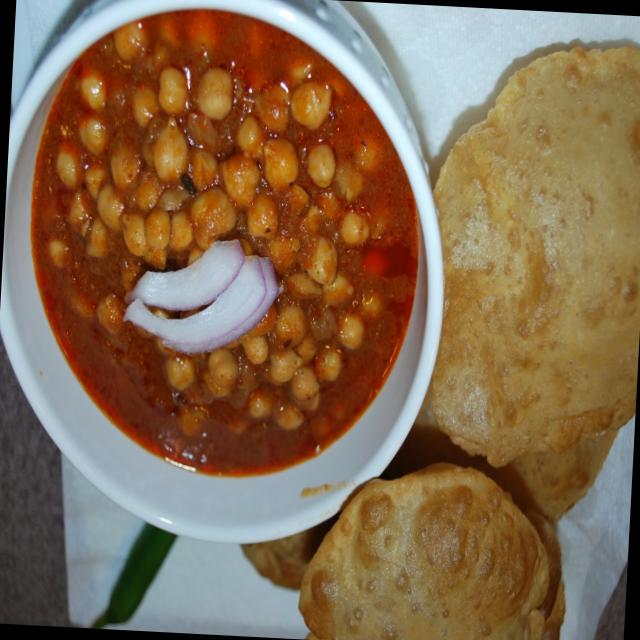Chole: (18, 2, 430, 487)
